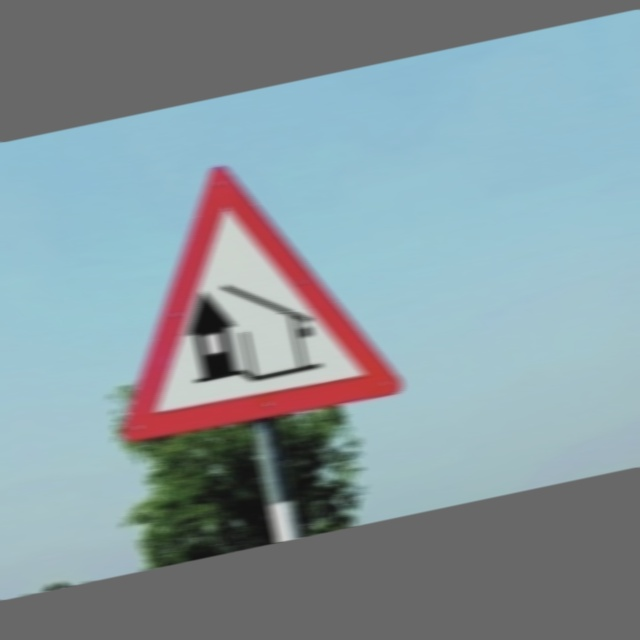Barrier_Ahead: (80, 134, 404, 452)
